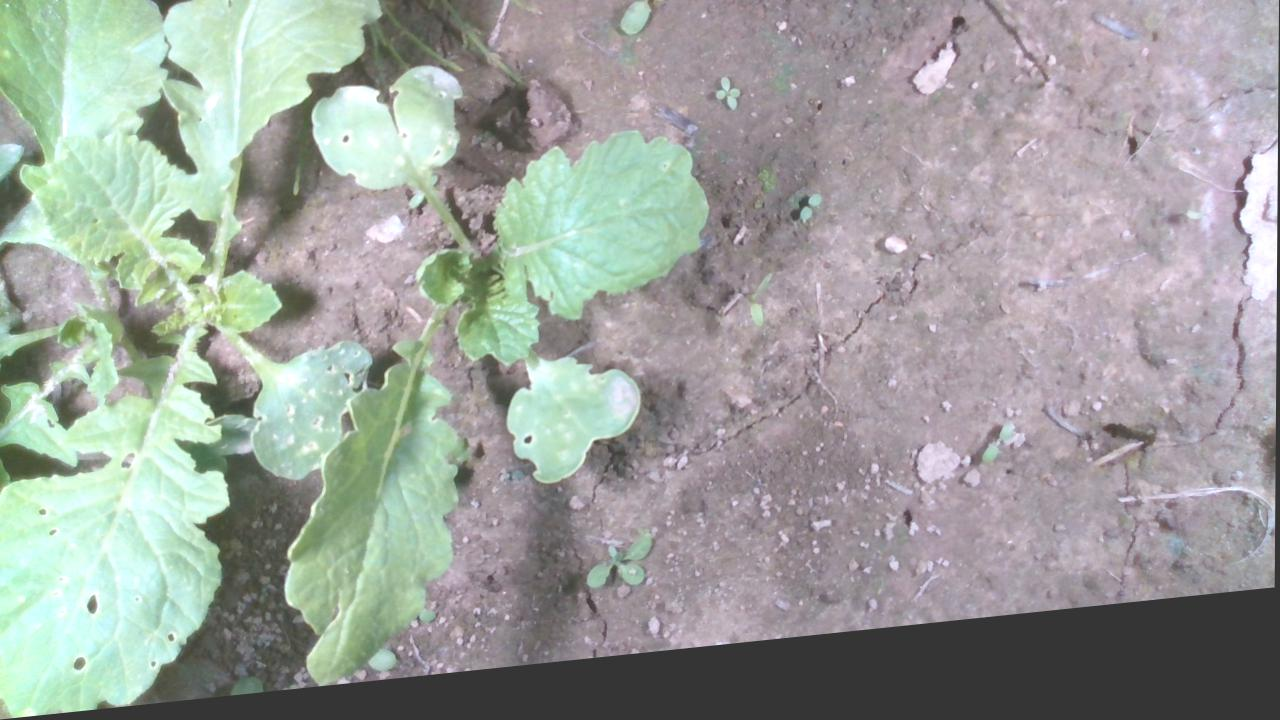weed: (585, 545, 653, 605), (618, 0, 698, 49), (981, 441, 1016, 487), (748, 285, 775, 344), (713, 89, 741, 129), (799, 209, 822, 240)
